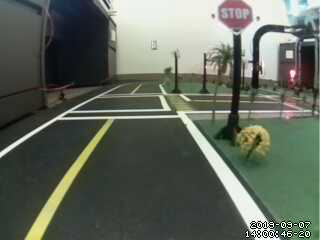Stop_Sign: (214, 4, 262, 38)
